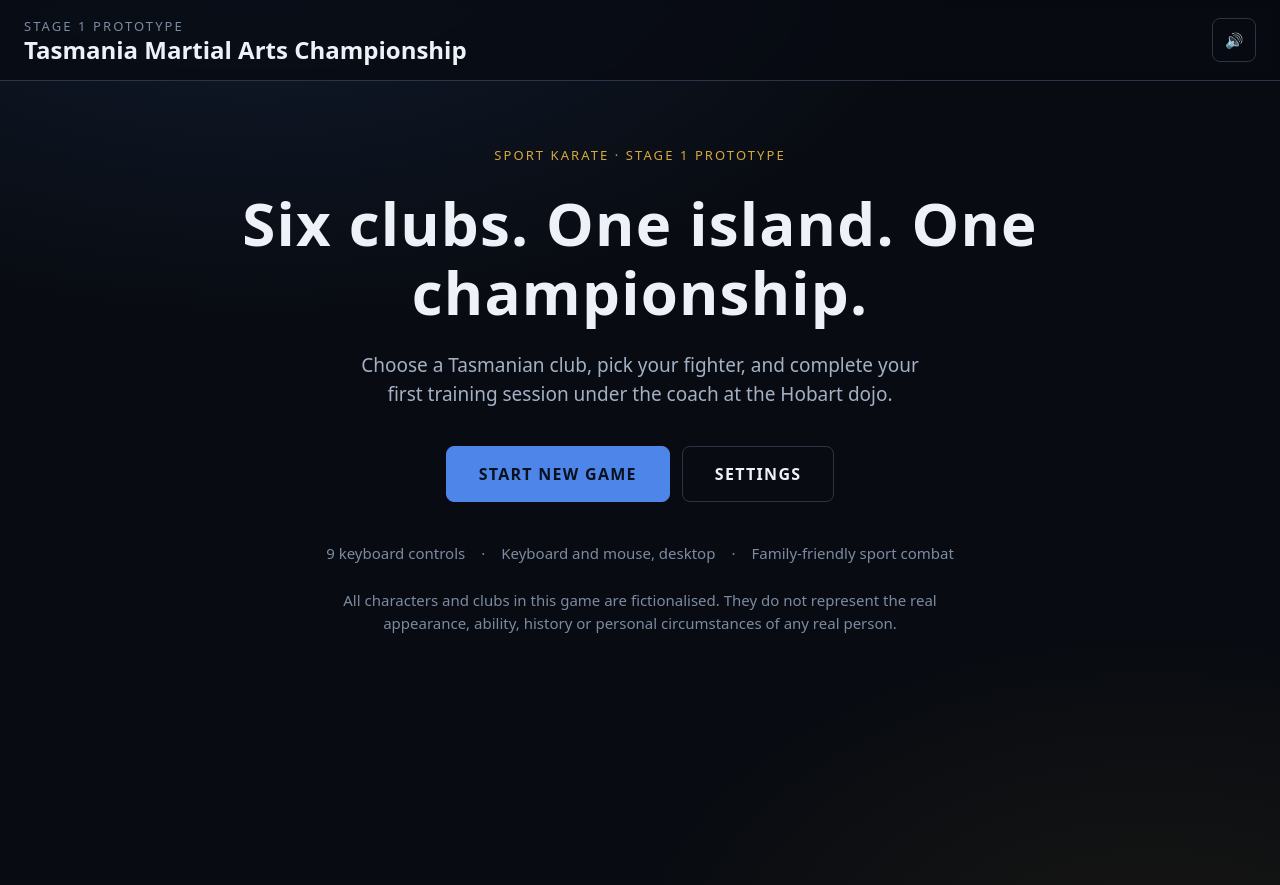
it: audio controls › exposes every audio control in settings
This screenshot has width=1280, height=885.
Click the button with test id "open-settings" at point(758, 474), box [682,446,834,502]
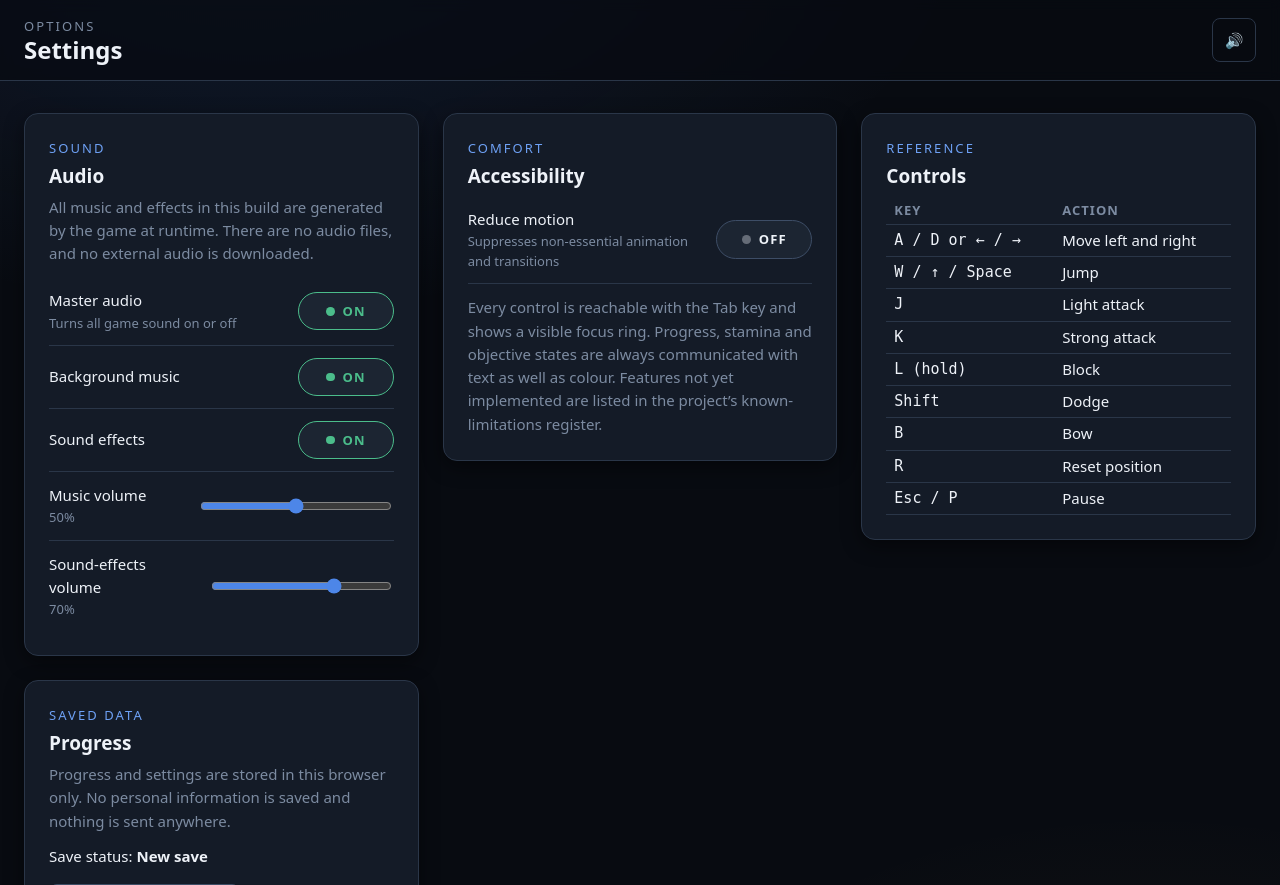
expect the switch with test id "setting-master" is shown: met, box [298,292,394,330]
expect the switch with test id "setting-music" is shown: met, box [298,358,394,396]
expect the switch with test id "setting-sfx" is shown: met, box [298,421,394,459]
